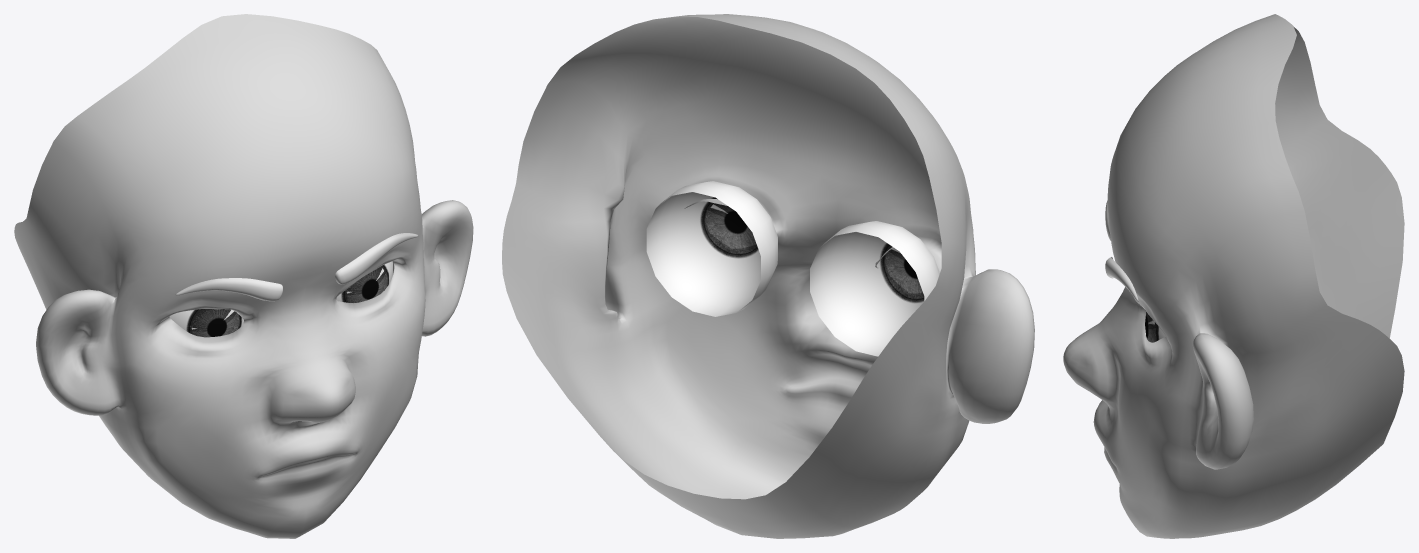
The model's file is head_angry.fbx.
3 views of the same model, side by side, from view 1: azimuth 30°, elevation 25°; view 2: azimuth 150°, elevation 25°; view 3: azimuth 270°, elevation 25° (orthographic). The views are drawn at different scales.
Visible parts, largest first — view 1: face_ur, eyeball_right_ur, eyeball_left_ur; view 2: face_ur, eyeball_left_ur, eyeball_right_ur; view 3: face_ur.
Boxes of the visible parts, x1,y1,x2,y2 form: face_ur: (14,14,473,538); eyeball_right_ur: (169,309,243,337); eyeball_left_ur: (336,261,392,302); face_ur: (502,14,1034,538); eyeball_left_ur: (646,181,777,316); eyeball_right_ur: (810,221,939,356); face_ur: (1063,14,1404,538).
Size of the model in its own units: 78.91 by 81.79 by 51.12.
